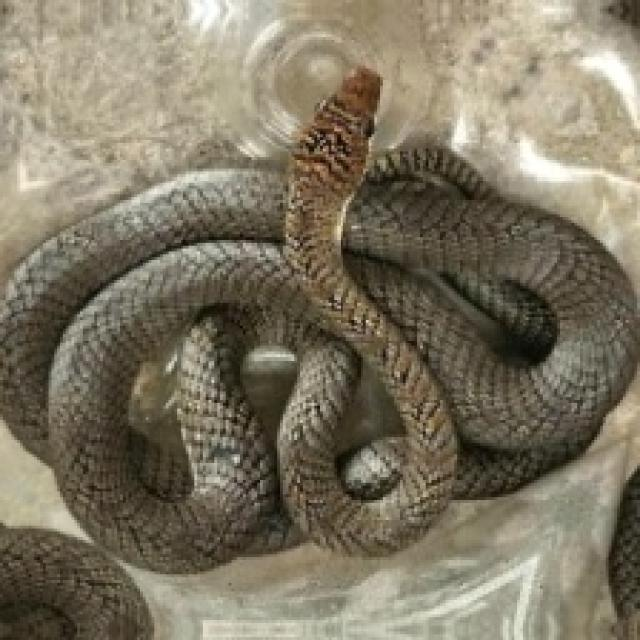paradise tree snake: (0, 69, 637, 569), (0, 529, 94, 626), (237, 340, 300, 454)
